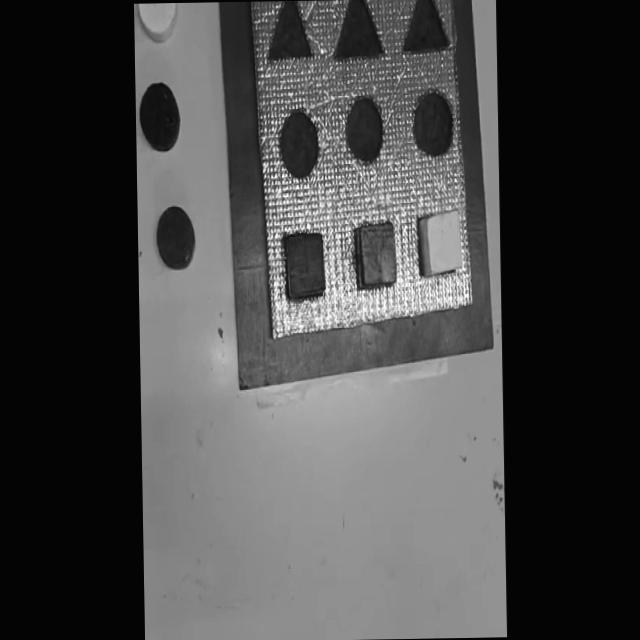bcircle: (138, 80, 180, 154)
bcube: (284, 231, 326, 302)
mtcircle: (278, 108, 320, 178), (412, 90, 452, 158), (344, 96, 382, 162)
mttriangle: (331, 0, 383, 60), (268, 1, 312, 62), (402, 0, 448, 54)
rcircle: (155, 204, 194, 270)
rcube: (355, 221, 399, 290)
wb: (246, 0, 470, 342)
ycircle: (138, 3, 174, 35)
ycube: (416, 207, 464, 280)
